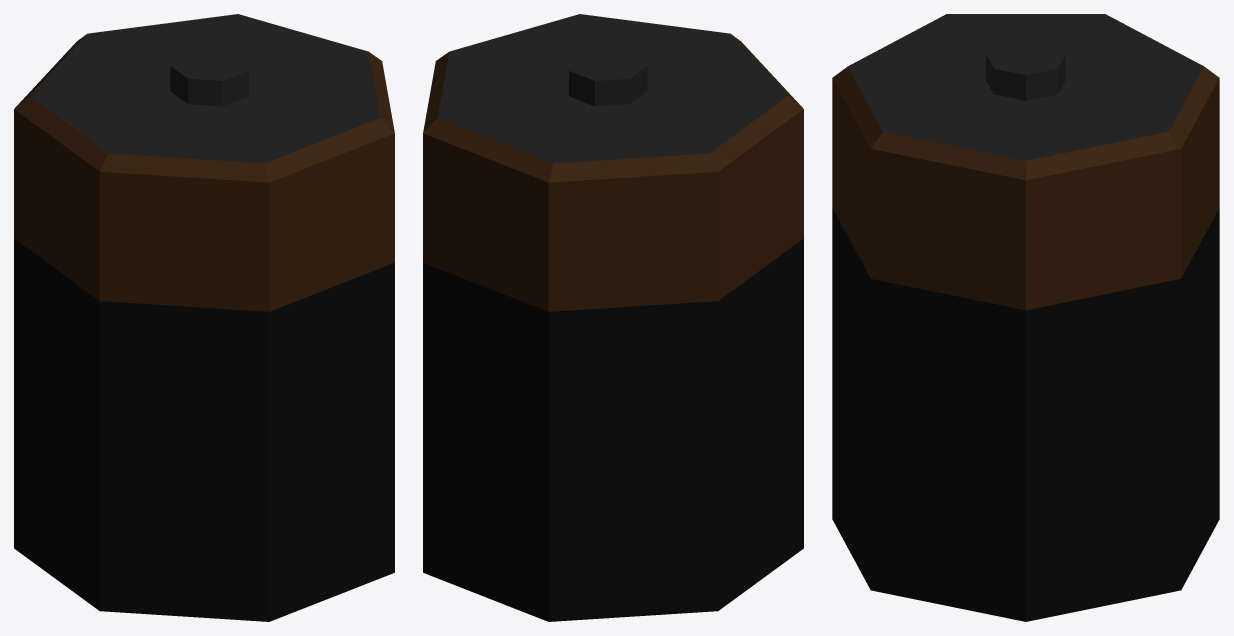
File: Battery 1.FBX
The picture shows the model from 3 angles, left to right: view 1: azimuth 30°, elevation 25°; view 2: azimuth 150°, elevation 25°; view 3: azimuth 270°, elevation 25°; orthographic projection.
Parts seen in each view (by area): view 1: Cylinder001, Part1, Part2; view 2: Cylinder001, Part1, Part2; view 3: Cylinder001, Part1, Part2.
Part boxes in pixels (box(x1,y1,x2,y2)): Cylinder001: box(14, 238, 394, 621); Part1: box(14, 34, 394, 311); Part2: box(30, 14, 380, 163); Cylinder001: box(423, 238, 803, 621); Part1: box(423, 34, 803, 311); Part2: box(437, 14, 787, 163); Cylinder001: box(832, 208, 1219, 621); Part1: box(832, 66, 1219, 310); Part2: box(848, 14, 1203, 160).
Size of the model in its own units: 13.31 by 18.68 by 13.65.
